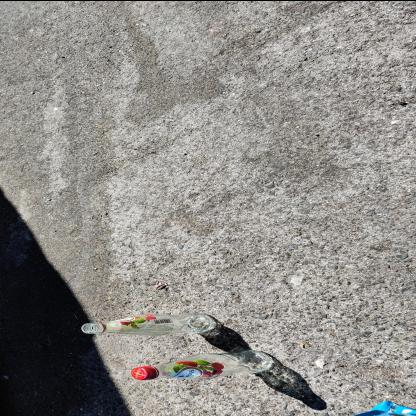cam: (132, 348, 272, 380), (81, 311, 214, 335)
